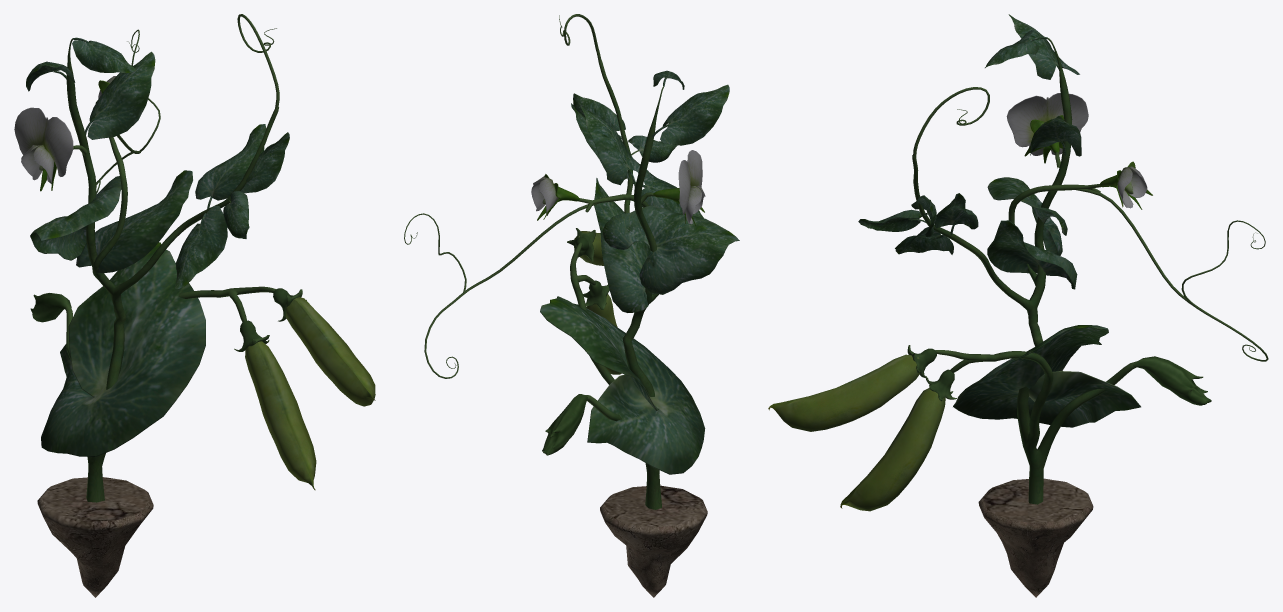
Rendered from Small_Pea_Plant_Green_Pod.gltf.
3 renders of one model, left to right at view 1: azimuth 30°, elevation 25°; view 2: azimuth 150°, elevation 25°; view 3: azimuth 270°, elevation 25°, orthographic. The views are drawn at different scales.
Visible parts, largest first — view 1: Small_Pea_Plant_Green_Pod; view 2: Small_Pea_Plant_Green_Pod; view 3: Small_Pea_Plant_Green_Pod.
Boxes of the visible parts, left/top/right/bottom form: Small_Pea_Plant_Green_Pod: left=14, top=14, right=375, bottom=597; Small_Pea_Plant_Green_Pod: left=404, top=14, right=739, bottom=597; Small_Pea_Plant_Green_Pod: left=768, top=14, right=1268, bottom=597.
Size of the model in its own units: 1.74 by 4.05 by 3.23.
Materials: 4 (4 with a texture image).
